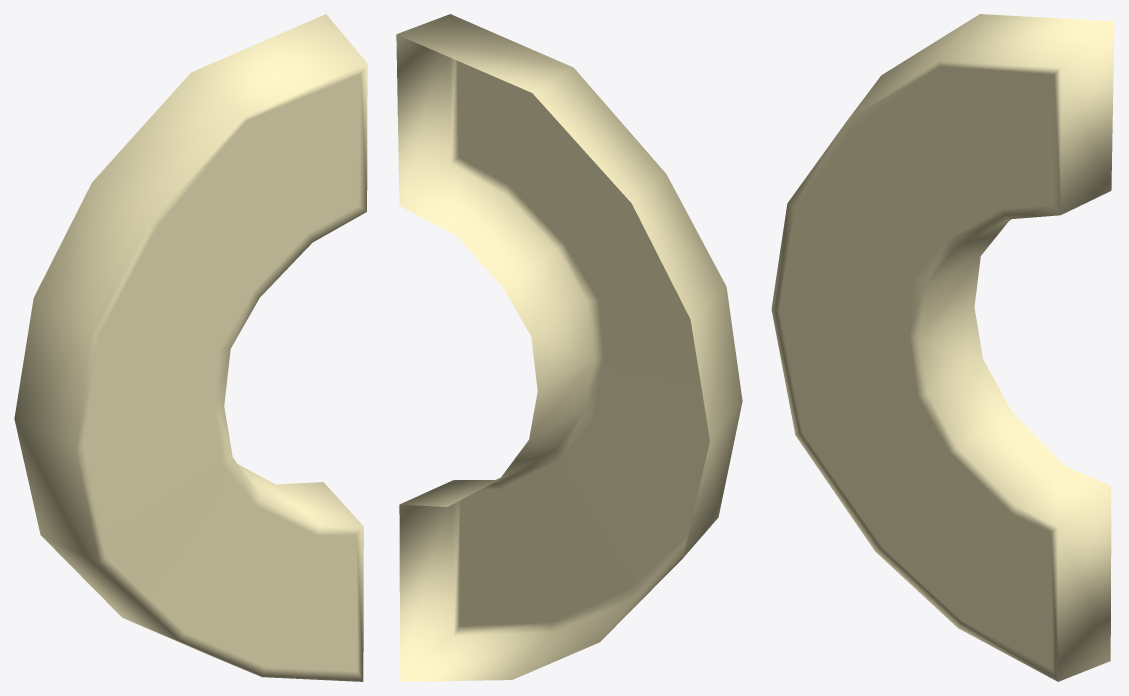
The model's file is ui_radialMenu_centerLeft.glb.
3 renders of one model, left to right at view 1: azimuth 30°, elevation 25°; view 2: azimuth 150°, elevation 25°; view 3: azimuth 330°, elevation 25°, orthographic.
Parts seen in each view (by area): view 1: centerLeft; view 2: centerLeft; view 3: centerLeft.
Part boxes in pixels (x1=…): centerLeft: x1=14, y1=14, x2=367, y2=681; centerLeft: x1=396, y1=14, x2=742, y2=681; centerLeft: x1=771, y1=14, x2=1114, y2=681.
Size of the model in its own units: 0.4609 by 0.9083 by 0.1239.
